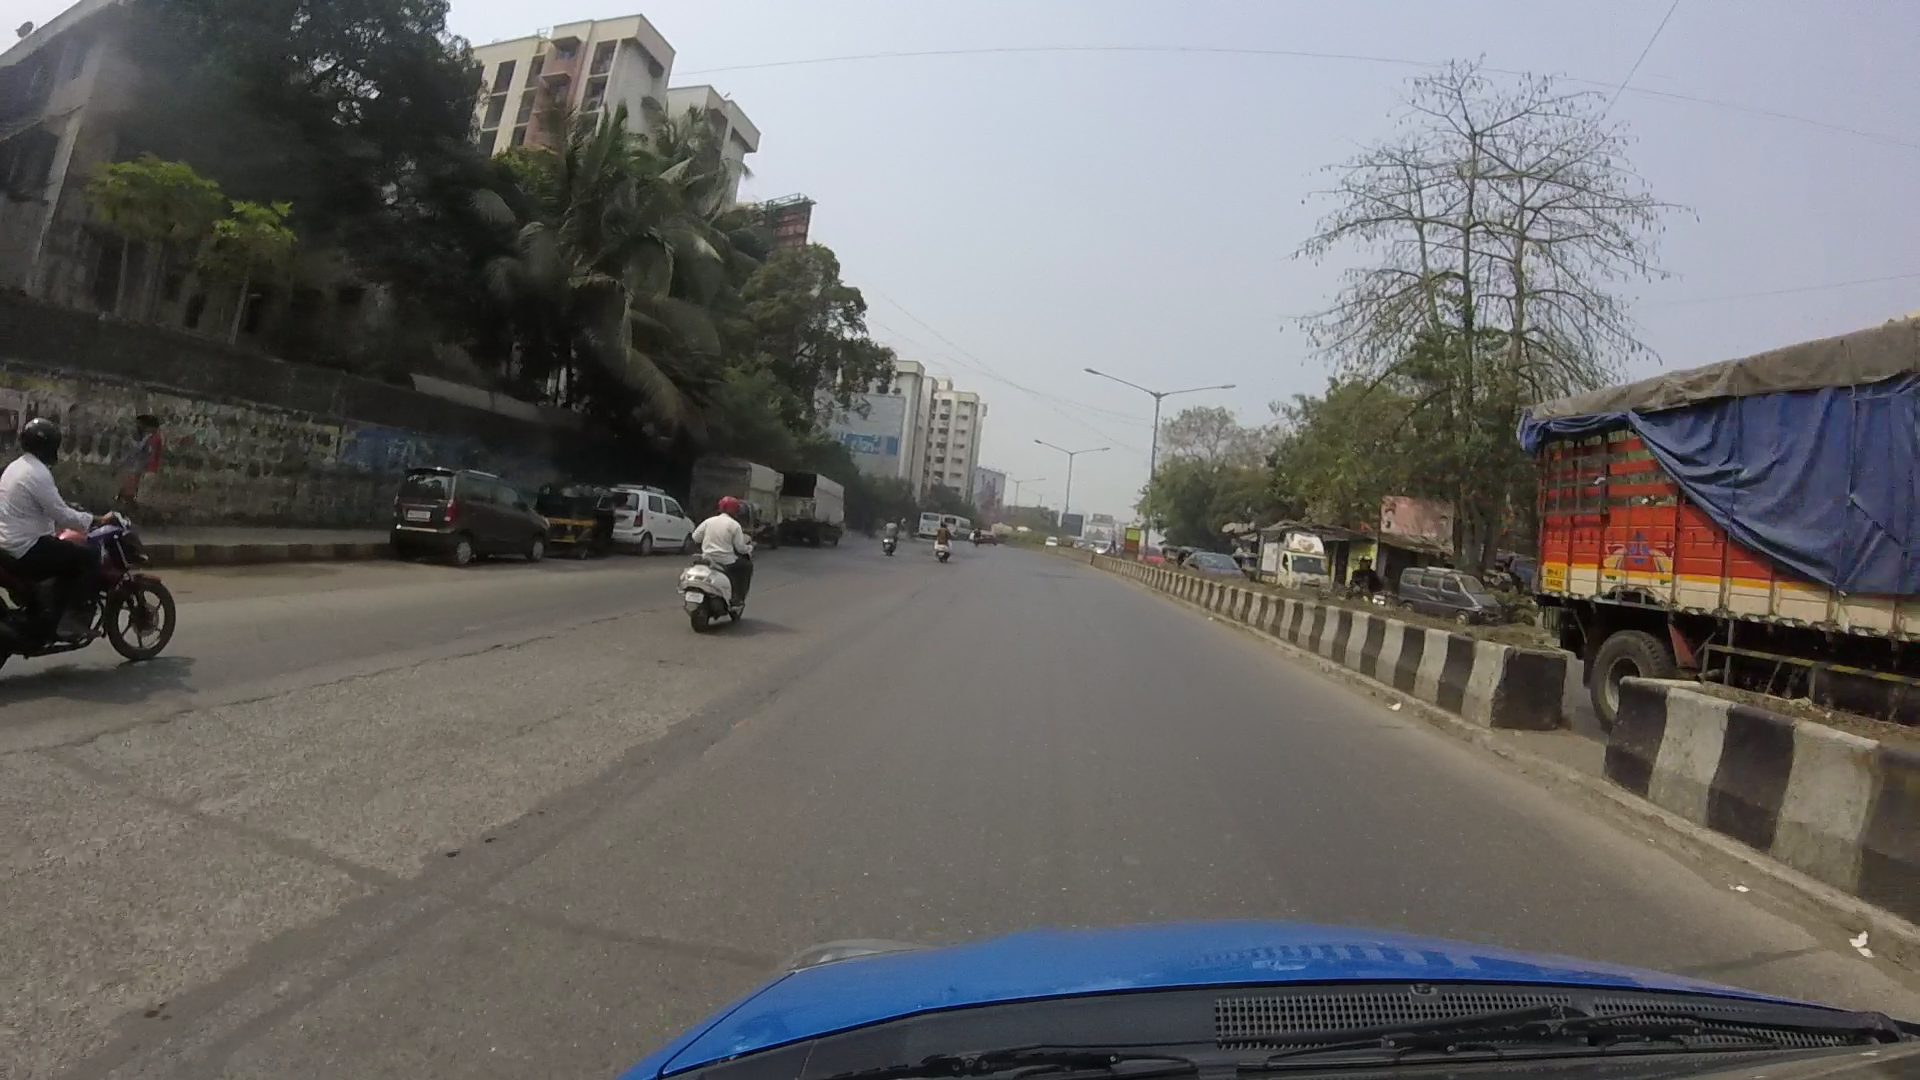bike/scooter: (1, 392, 177, 702), (654, 477, 774, 654)
car: (369, 442, 553, 578), (1393, 549, 1495, 633)
truck: (1516, 307, 1917, 662)
